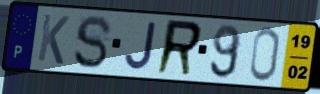0: (248, 25, 282, 84)
9: (208, 22, 244, 81)
J: (123, 20, 159, 72)
K: (35, 12, 72, 67)
R: (153, 18, 205, 79)
S: (72, 14, 115, 71)
